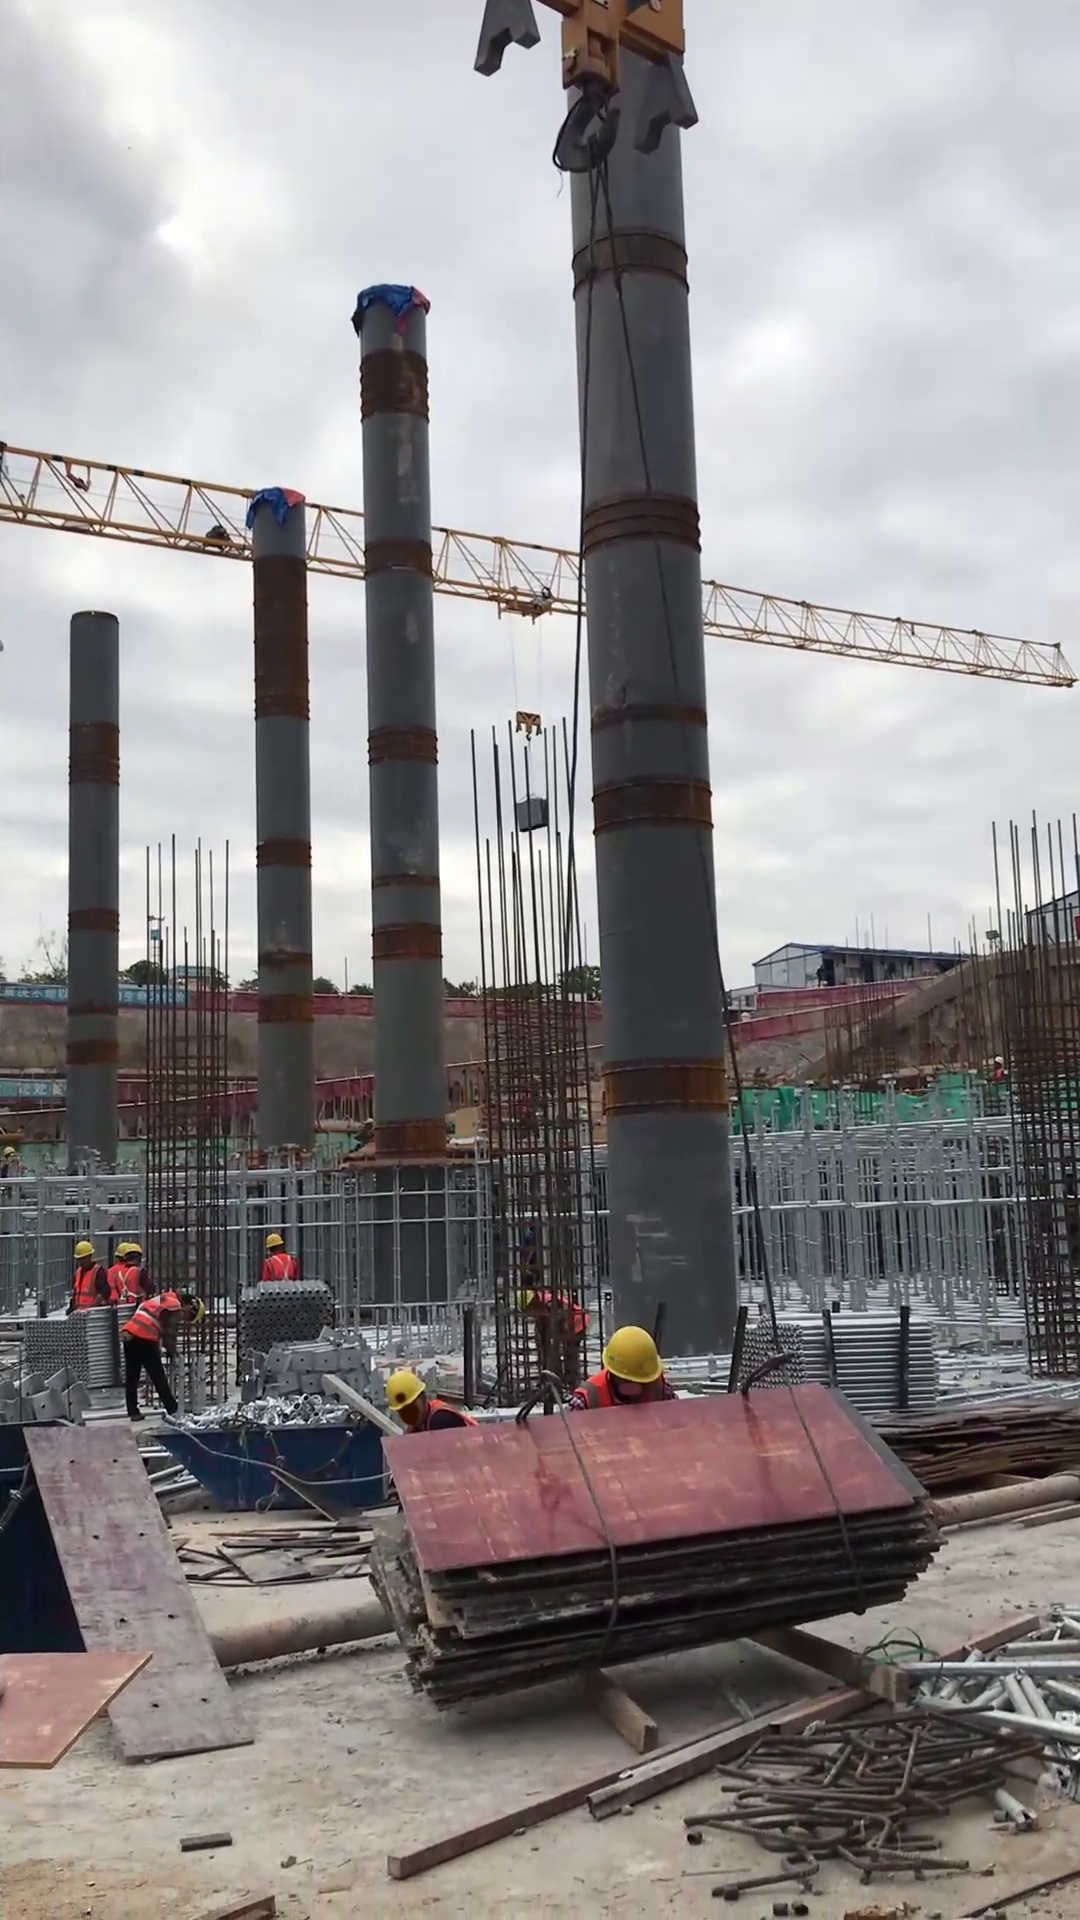board: (365, 1378, 944, 1702), (867, 1399, 1080, 1486)
helmet: (599, 1323, 664, 1385), (385, 1369, 430, 1413), (188, 1294, 206, 1327), (73, 1239, 97, 1260), (515, 1288, 533, 1311), (114, 1240, 129, 1262), (122, 1241, 142, 1258), (264, 1231, 284, 1249), (1, 1144, 15, 1158), (994, 1054, 1004, 1066)
hook: (471, 1, 701, 178), (513, 708, 544, 743)
hopper: (146, 1419, 394, 1512), (1, 1415, 78, 1655)
person: (117, 1288, 207, 1423), (561, 1323, 679, 1411), (513, 1288, 592, 1391), (384, 1369, 483, 1432), (65, 1239, 111, 1318), (115, 1240, 156, 1306), (260, 1232, 299, 1282)
scaffold: (731, 1308, 939, 1414), (20, 1308, 126, 1392), (235, 1278, 339, 1354)
slogan: (1, 984, 190, 1011), (1, 1075, 70, 1099)
vest: (578, 1370, 668, 1406), (121, 1290, 181, 1341), (537, 1293, 591, 1335), (429, 1398, 482, 1431), (72, 1264, 104, 1309), (114, 1263, 144, 1302), (265, 1252, 296, 1282)
